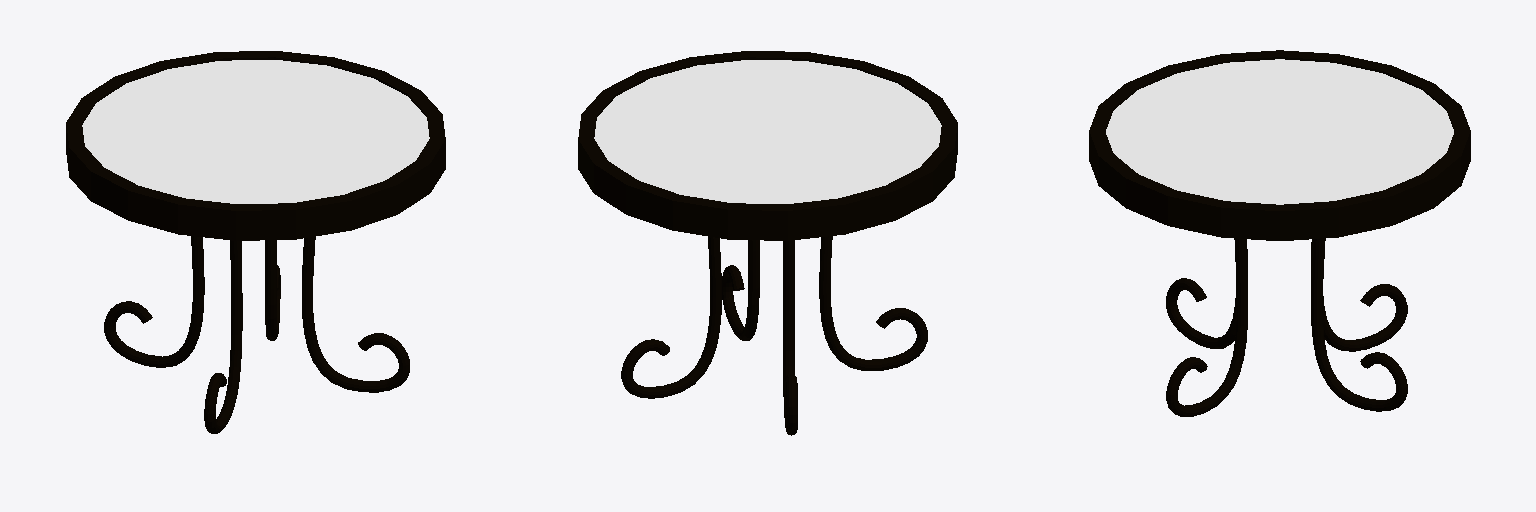
Rendered from Table.obj.
The picture shows the model from 3 angles: view 1: azimuth 30°, elevation 25°; view 2: azimuth 150°, elevation 25°; view 3: azimuth 270°, elevation 25°; orthographic projection.
Visible parts, largest first — view 1: bord2_fancy_Cylinder.008; view 2: bord2_fancy_Cylinder.008; view 3: bord2_fancy_Cylinder.008.
Boxes of the visible parts, x1,y1,x2,y2 form: bord2_fancy_Cylinder.008: [66, 51, 445, 433]; bord2_fancy_Cylinder.008: [578, 51, 957, 435]; bord2_fancy_Cylinder.008: [1089, 50, 1470, 416].
Size of the model in its own units: 1.68 by 1.21 by 1.68.